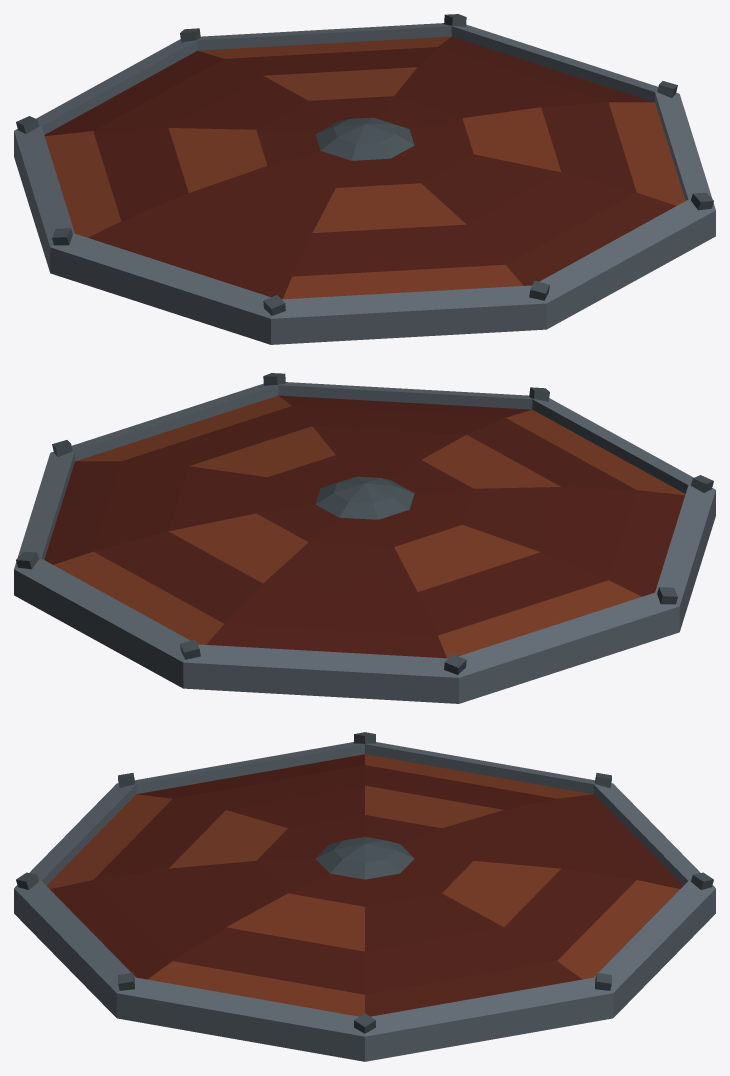
The model's file is shield.fbx.
3 renders of one model, top to bottom at view 1: azimuth 30°, elevation 25°; view 2: azimuth 150°, elevation 25°; view 3: azimuth 270°, elevation 25°, orthographic. The views are drawn at different scales.
Visible parts, largest first — view 1: shield; view 2: shield; view 3: shield.
Part boxes in pixels (x1,y1,x2,y2): shield: [14, 14, 715, 344]; shield: [14, 373, 715, 703]; shield: [14, 732, 715, 1061].
Size of the model in its own units: 45.42 by 4.99 by 45.42.
